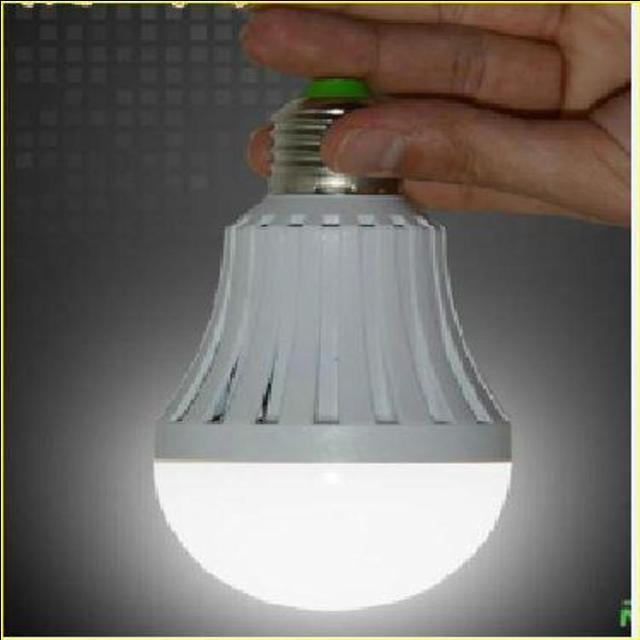light_bulb: (144, 70, 516, 618)
